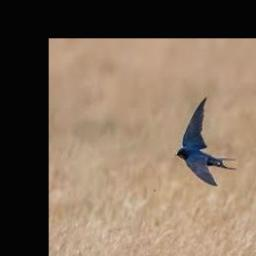Swallow: (176, 96, 236, 185)
